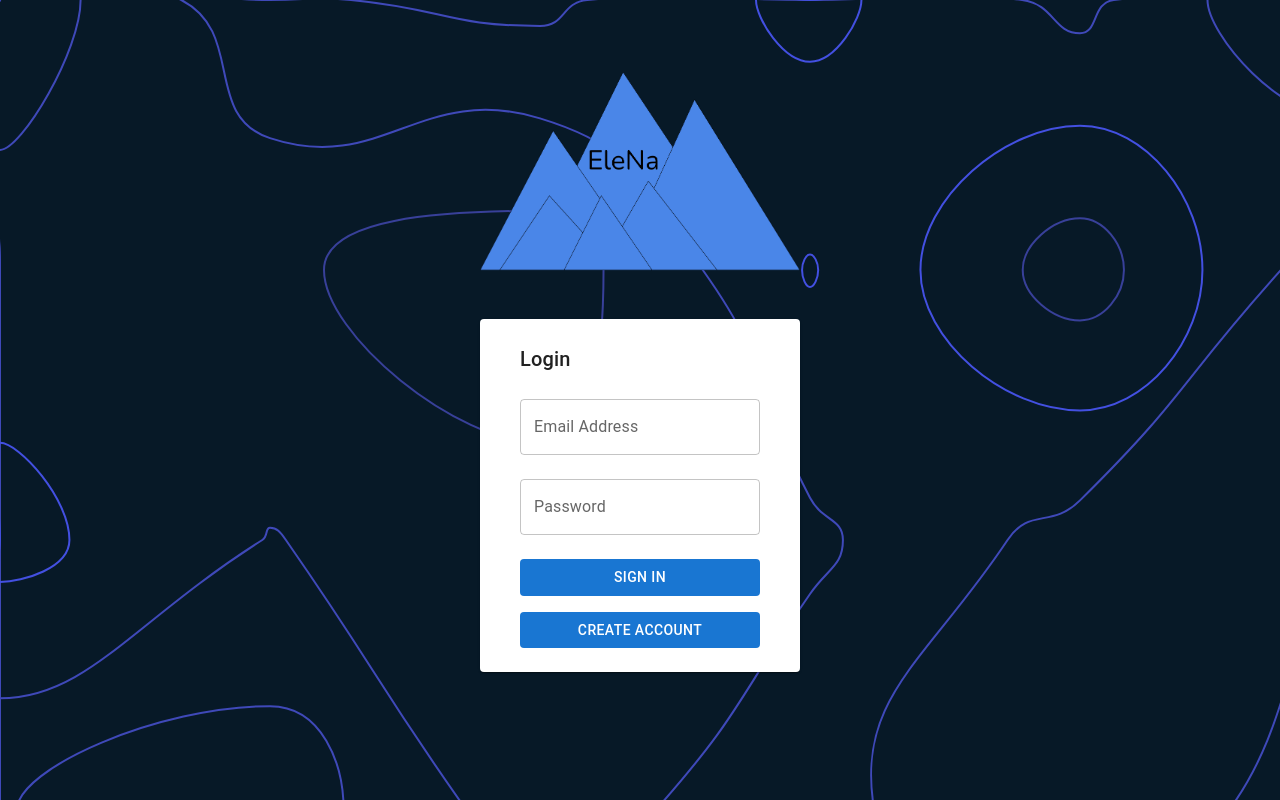
Authentication › should show error on login with no password
Type "user@email.com" into the field with test id "loginEmail".
click(640, 427); type("user@email.com")  # box [520,399,760,455]
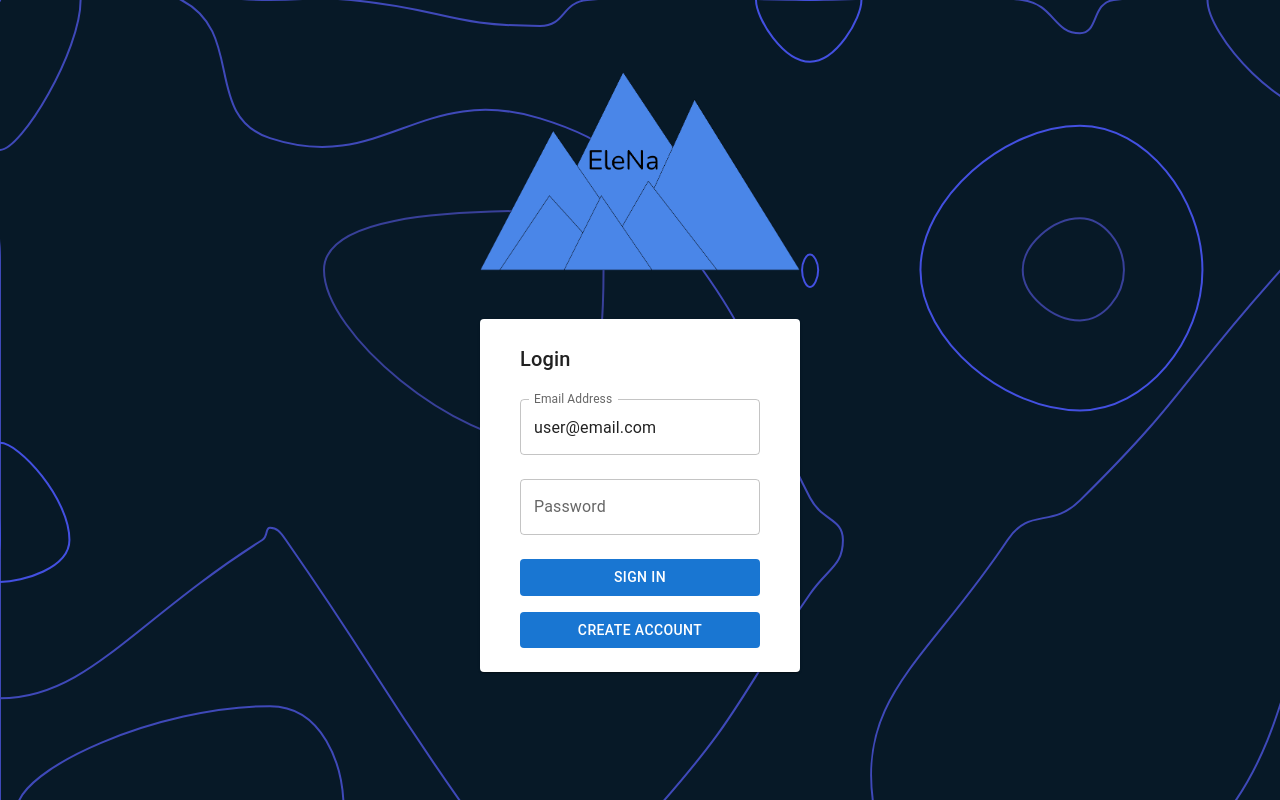
Click the button with test id "loginButton".
click(640, 578)  # box [520,559,760,596]
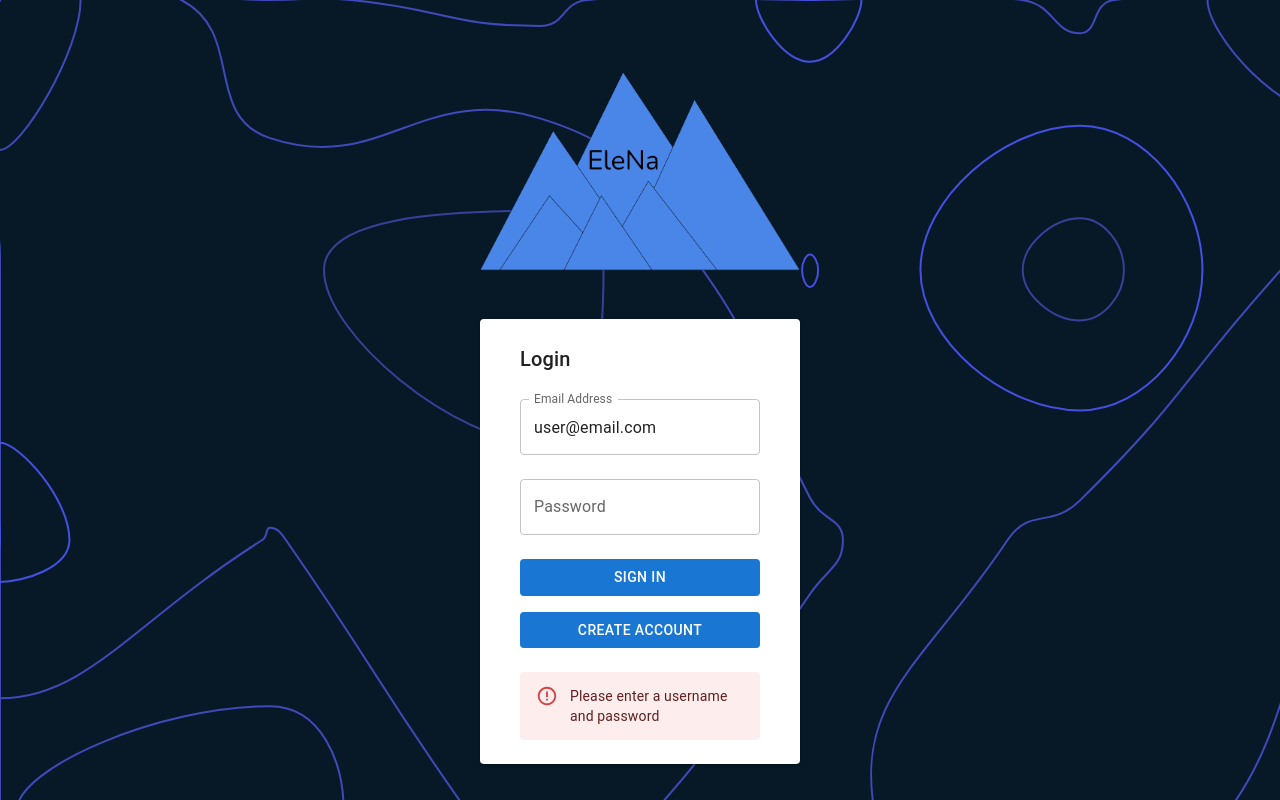
Now the message "Please enter a username and password" is shown, box [520,672,760,740]
